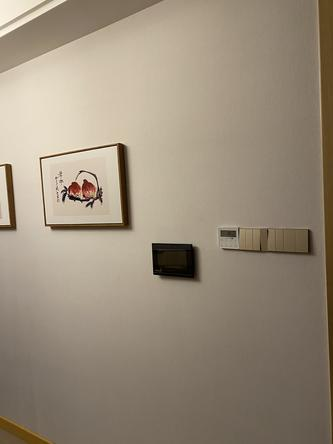switch: (295, 229, 308, 253), (283, 228, 295, 253), (275, 228, 284, 253), (245, 227, 253, 250), (253, 230, 261, 251), (261, 228, 268, 251), (238, 228, 245, 250), (268, 229, 275, 250)
